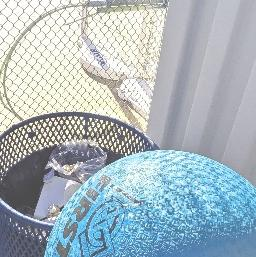algae: (42, 151, 256, 257)
